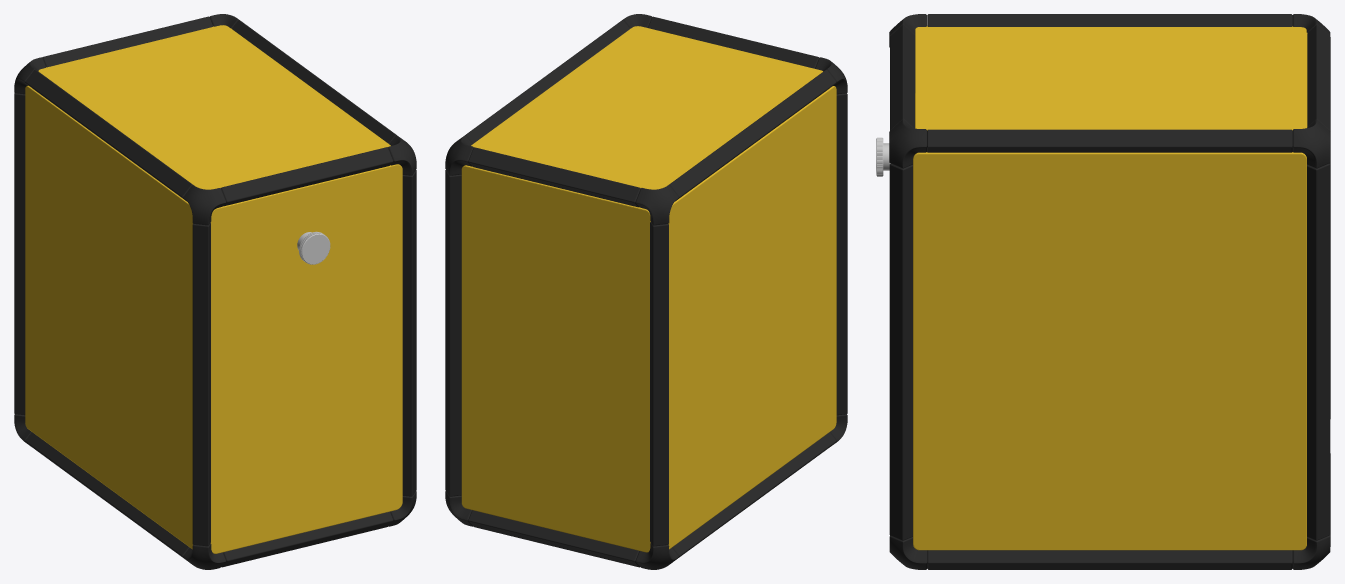
3 renders of one model, left to right at view 1: azimuth 30°, elevation 25°; view 2: azimuth 150°, elevation 25°; view 3: azimuth 270°, elevation 25°, orthographic. The views are drawn at different scales.
Visible parts, largest first — view 1: 229x374x420; view 2: 229x374x420; view 3: 229x374x420.
Part boxes in pixels (x1,y1,x2,y2): 229x374x420: [14, 14, 416, 569]; 229x374x420: [445, 14, 847, 569]; 229x374x420: [876, 14, 1330, 569].
Bounding box in the file's own units: 0.3067 × 0.4976 × 0.4646.
